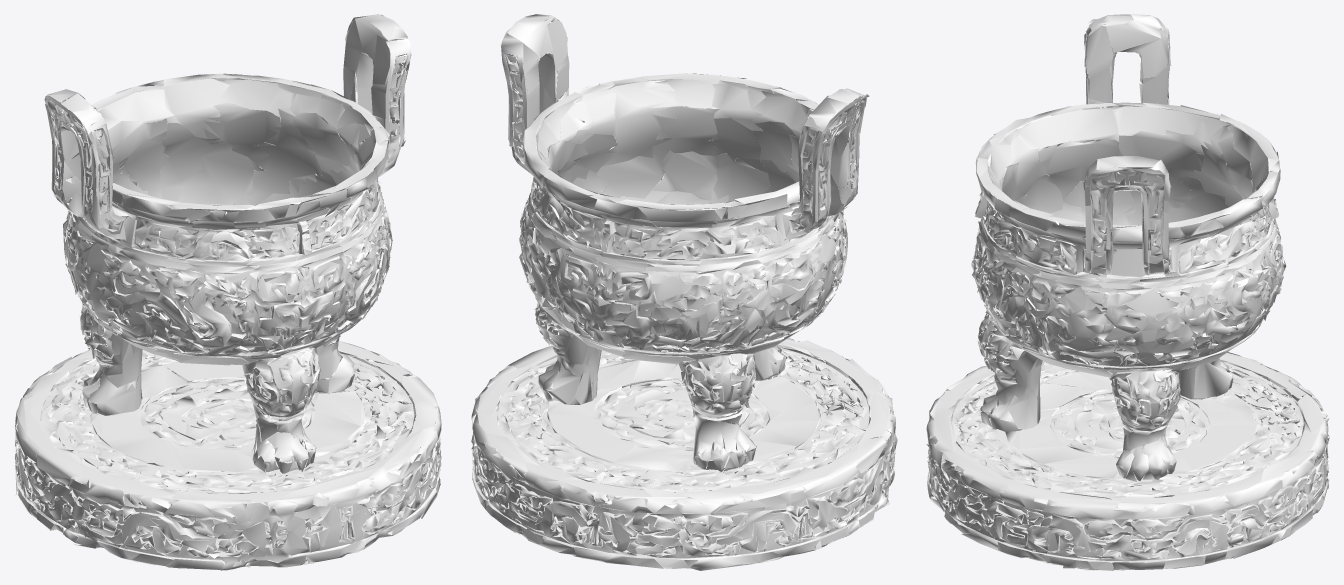
The model's file is incense_ding_lod1.glb.
The picture shows the model from 3 angles, left to right: view 1: azimuth 30°, elevation 25°; view 2: azimuth 150°, elevation 25°; view 3: azimuth 270°, elevation 25°; orthographic projection. The views are drawn at different scales.
Parts seen in each view (by area): view 1: Mesh_0; view 2: Mesh_0; view 3: Mesh_0.
Part boxes in pixels (<box>): Mesh_0: <box>14,14,441,570</box>; Mesh_0: <box>471,14,897,570</box>; Mesh_0: <box>926,14,1329,570</box>.
Size of the model in its own units: 2.38 by 2.62 by 2.38.
1 material, 1 textured.
